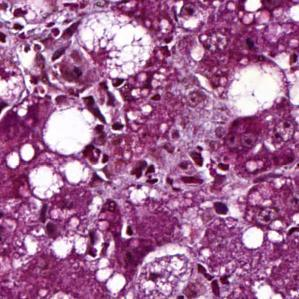ballooning: (76, 7, 158, 81), (224, 52, 291, 120), (42, 107, 96, 159)
